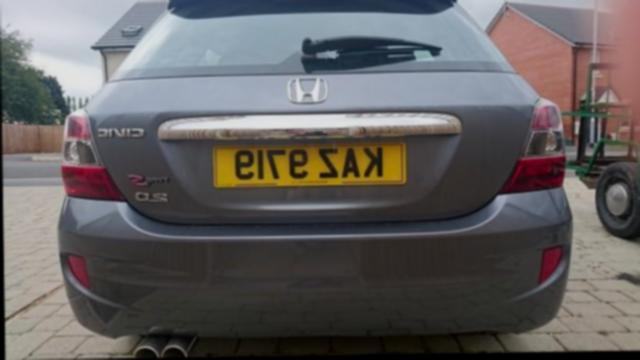License_Plate: (208, 139, 411, 192)
